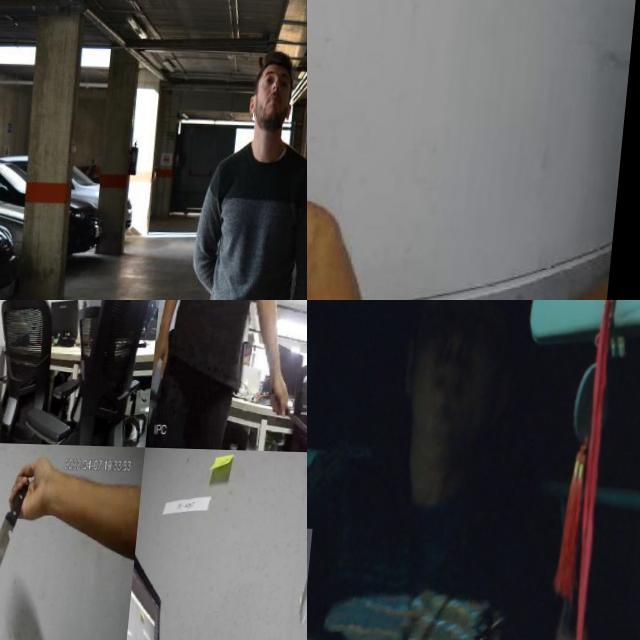-: (307, 0, 361, 300), (0, 470, 37, 618), (291, 402, 307, 438), (0, 349, 7, 379)
gun-knife-thesis - v11 Yolov5 augmented: (307, 524, 368, 640)
